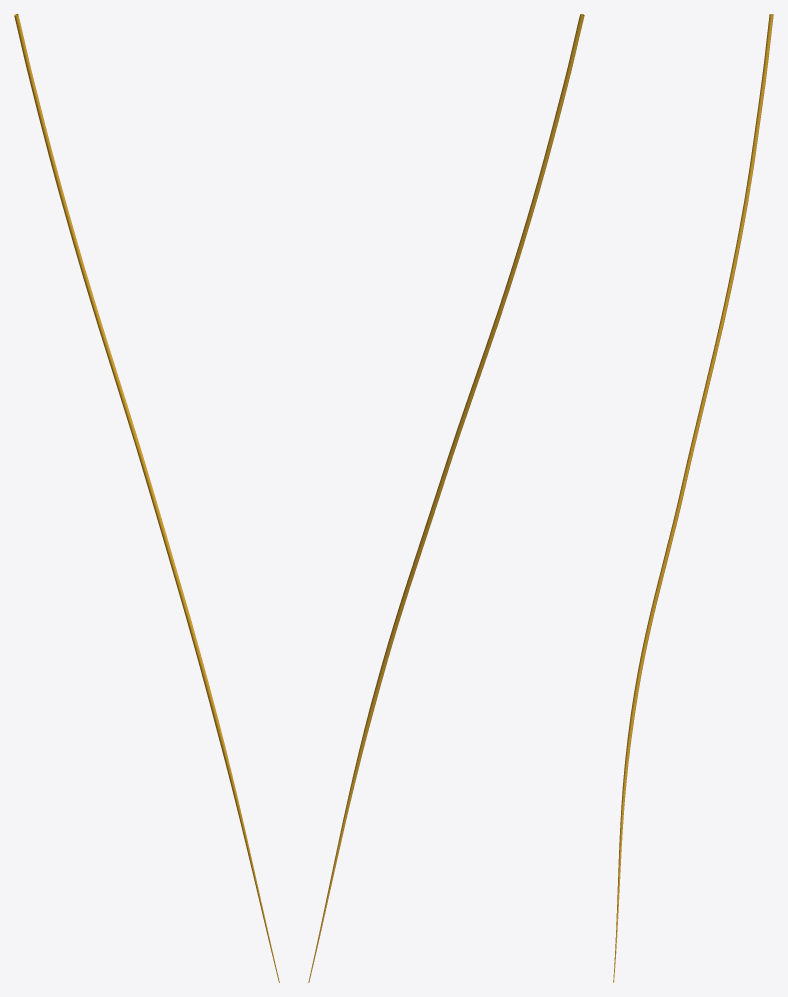
File: nervoso-anterior-branch-of-medial-antebrachial-cutaneous-nerve-l.glb
3 renders of one model, left to right at view 1: azimuth 30°, elevation 25°; view 2: azimuth 210°, elevation 25°; view 3: azimuth 270°, elevation 25°, orthographic. The views are drawn at different scales.
Parts seen in each view (by area): view 1: Anterior branch of medial antebrachial cutaneous nerve.l; view 2: Anterior branch of medial antebrachial cutaneous nerve.l; view 3: Anterior branch of medial antebrachial cutaneous nerve.l.
Part boxes in pixels (<box>): Anterior branch of medial antebrachial cutaneous nerve.l: <box>14,14,279,982</box>; Anterior branch of medial antebrachial cutaneous nerve.l: <box>308,14,584,982</box>; Anterior branch of medial antebrachial cutaneous nerve.l: <box>613,14,773,982</box>.
Size of the model in its own units: 0.0468 by 0.2348 by 0.0385.
